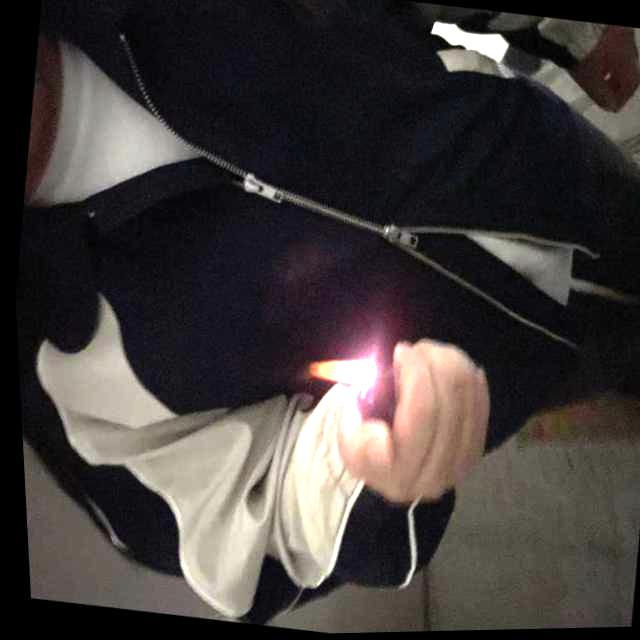fire: (305, 357, 371, 387)
